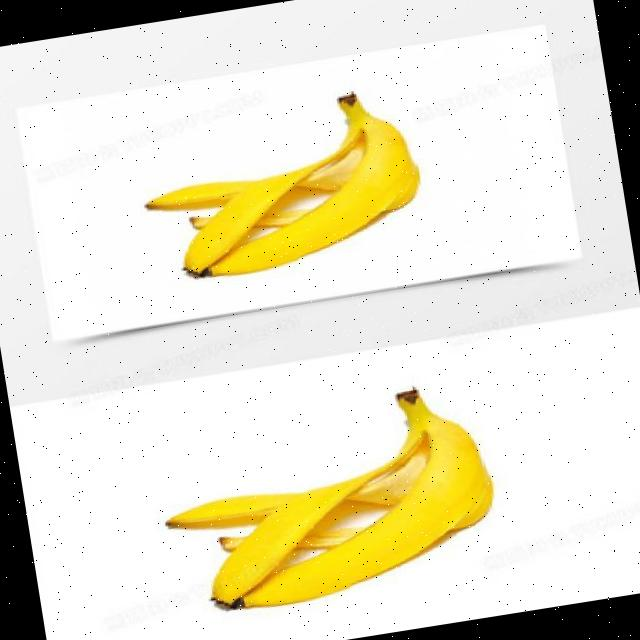banana-peel: (149, 376, 506, 622), (132, 82, 430, 288)
